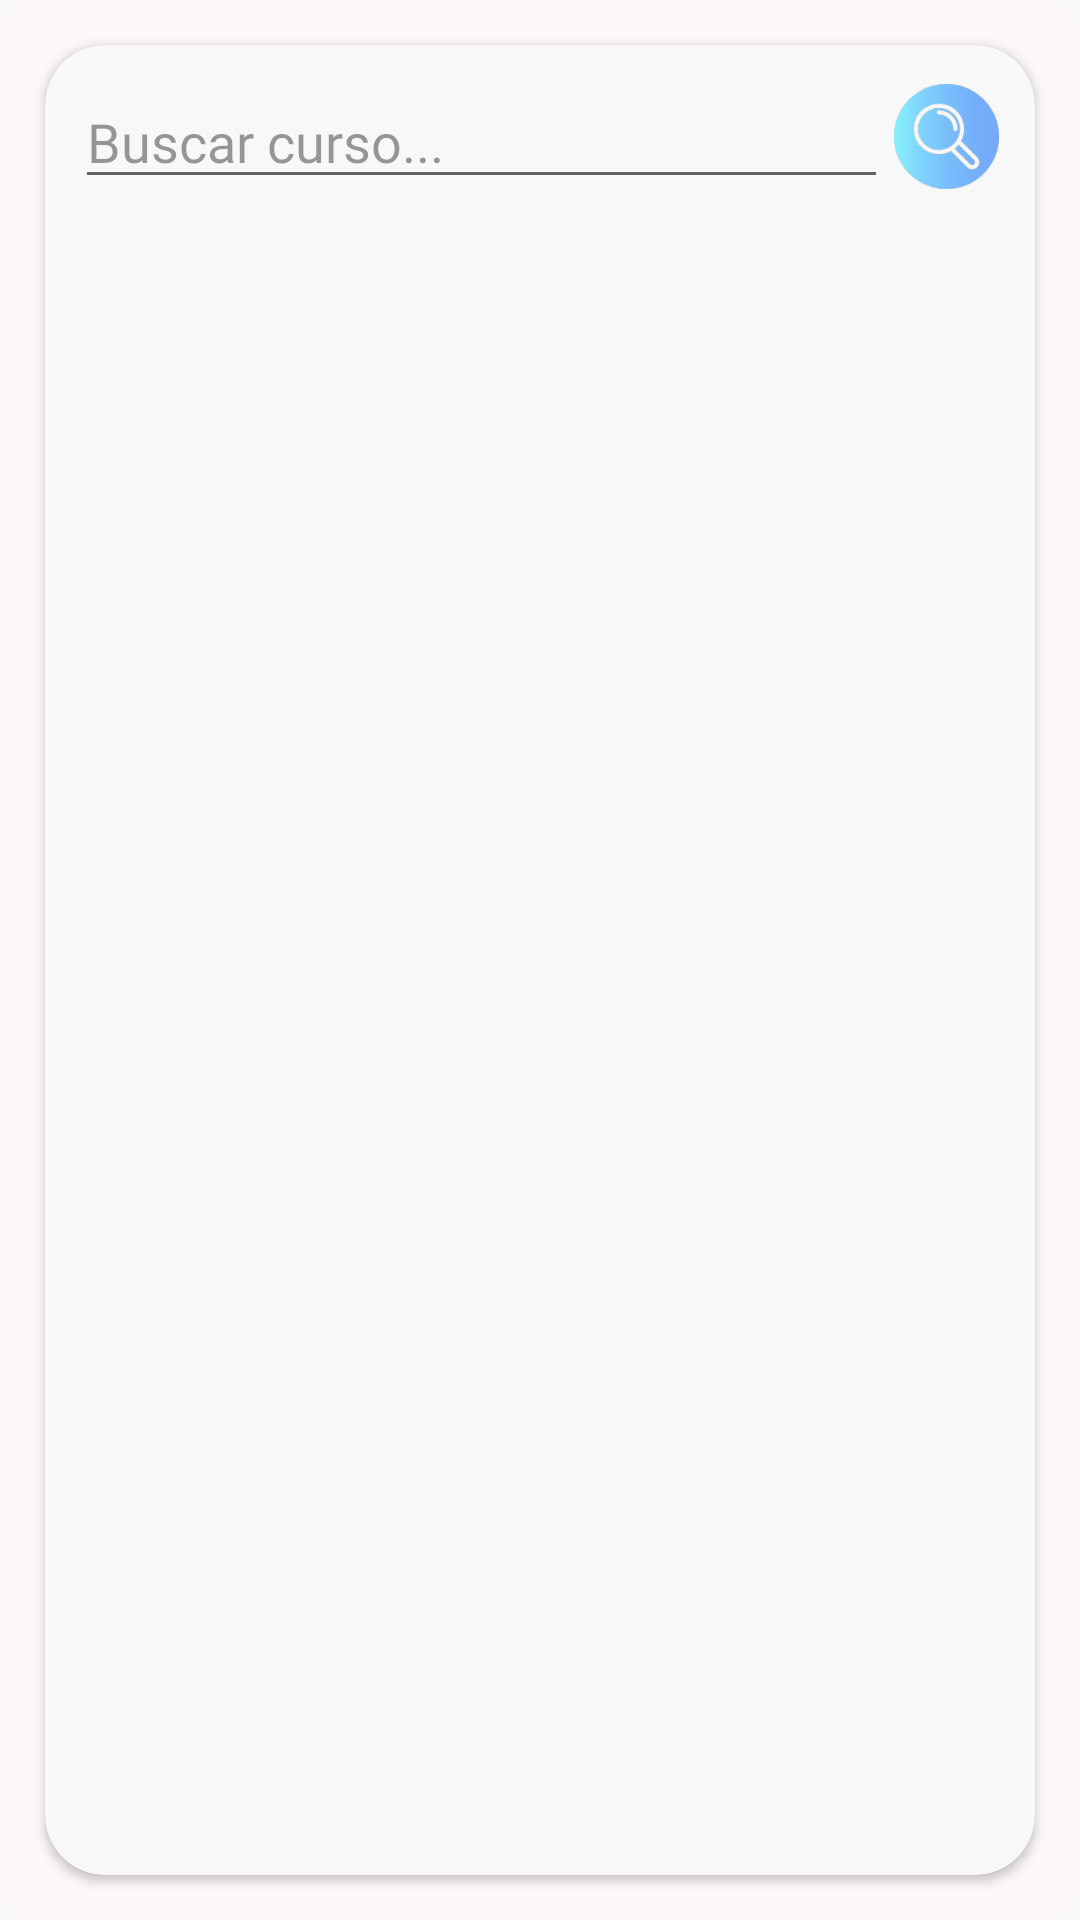

Icon bounding boxes for this 1080x1920 phone screenshot, format (x1, y1, x2, y2):
buscacurso: (894, 84, 999, 189)
